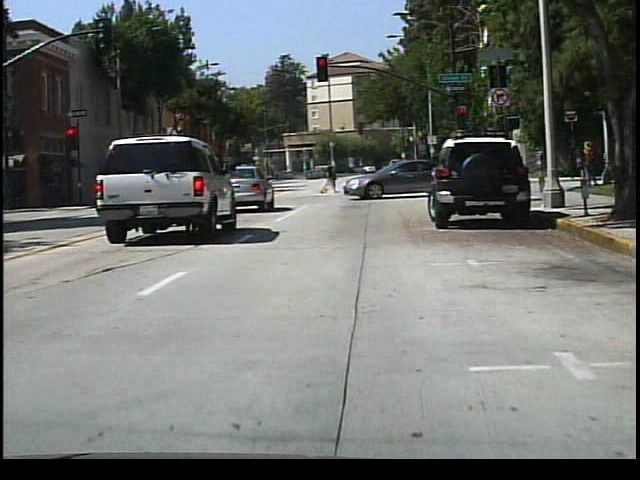person: (580, 138, 599, 193), (319, 158, 341, 198), (457, 151, 474, 186)
